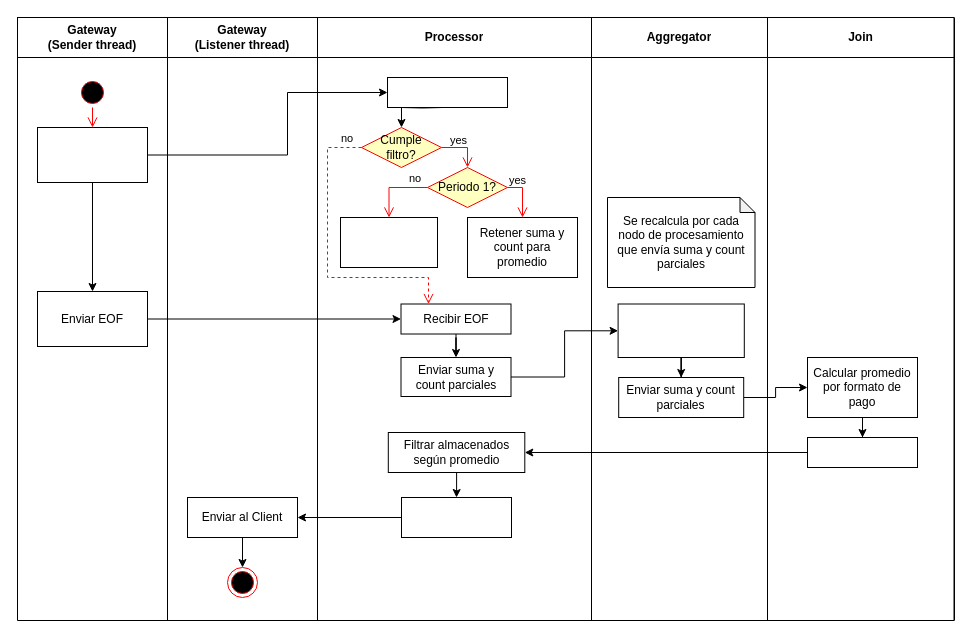
Some shapes in this 972 by 638 pixel diagram are drawn without their labels. Here are the shapes that lost their labels. From the top down, the centre of each, then its label:
[447,92]: Recibir transacción
[92,154]: Enviar transacciones
[389,242]: Almacenar en archivo
[680,330]: Recalcular suma y count por formato de pago
[862,452]: Enviar promedios
[456,517]: Enviar Resultados
